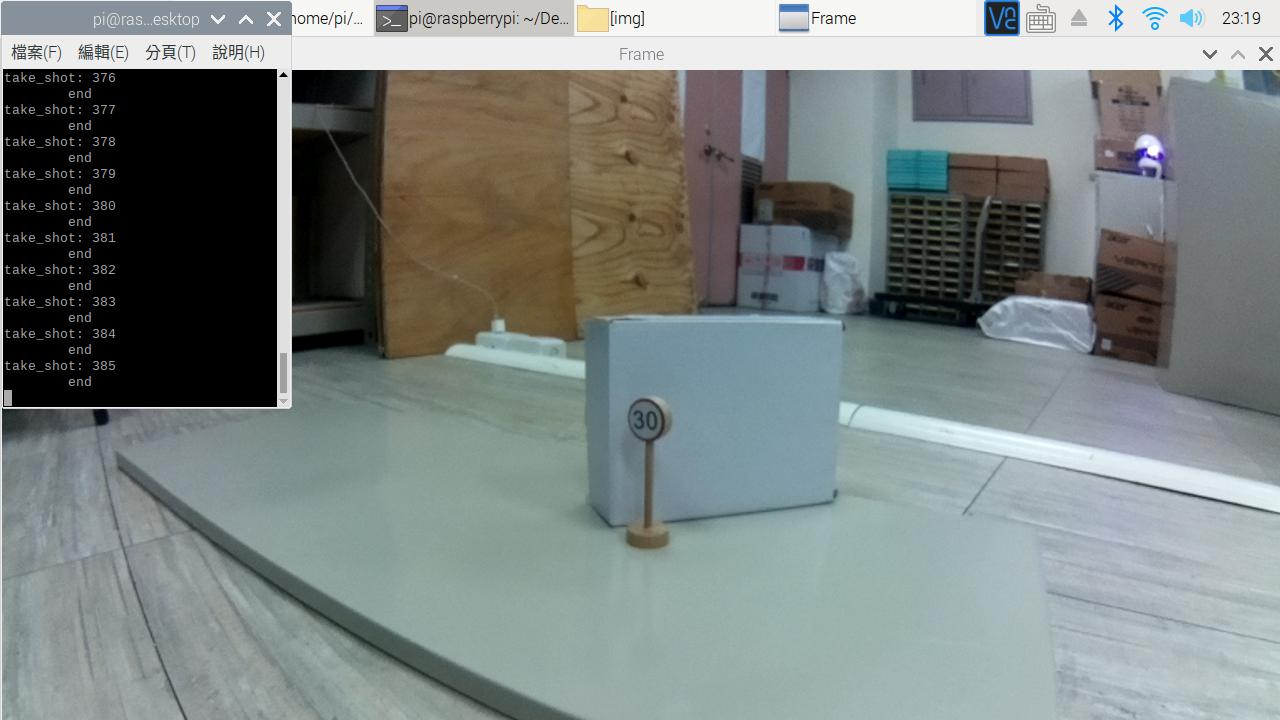Speed30: (612, 386, 694, 475)
